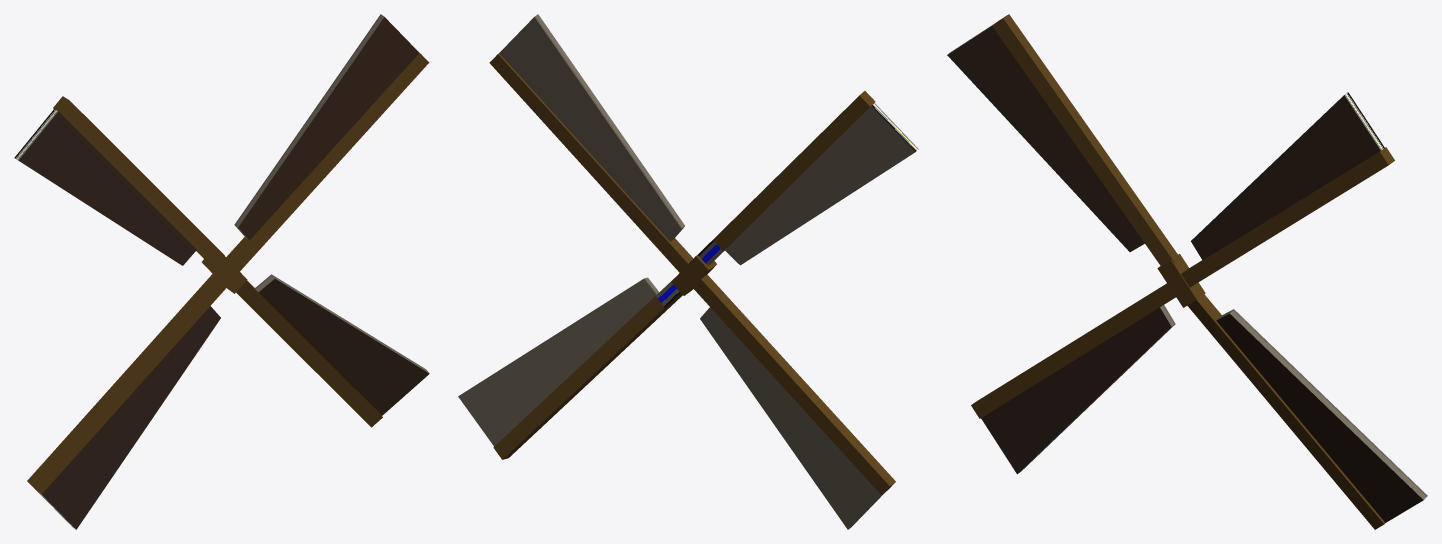
The model's file is Mill_part2.fbx.
3 renders of one model, left to right at view 1: azimuth 30°, elevation 25°; view 2: azimuth 150°, elevation 25°; view 3: azimuth 330°, elevation 25°, orthographic. The views are drawn at different scales.
Parts seen in each view (by area): view 1: Mill.002; view 2: Mill.002; view 3: Mill.002.
Boxes of the visible parts, <box> form: Mill.002: <box>14,14,429,529</box>; Mill.002: <box>458,14,918,529</box>; Mill.002: <box>947,14,1427,529</box>.
Size of the model in its own units: 1612 by 1549 by 216.
